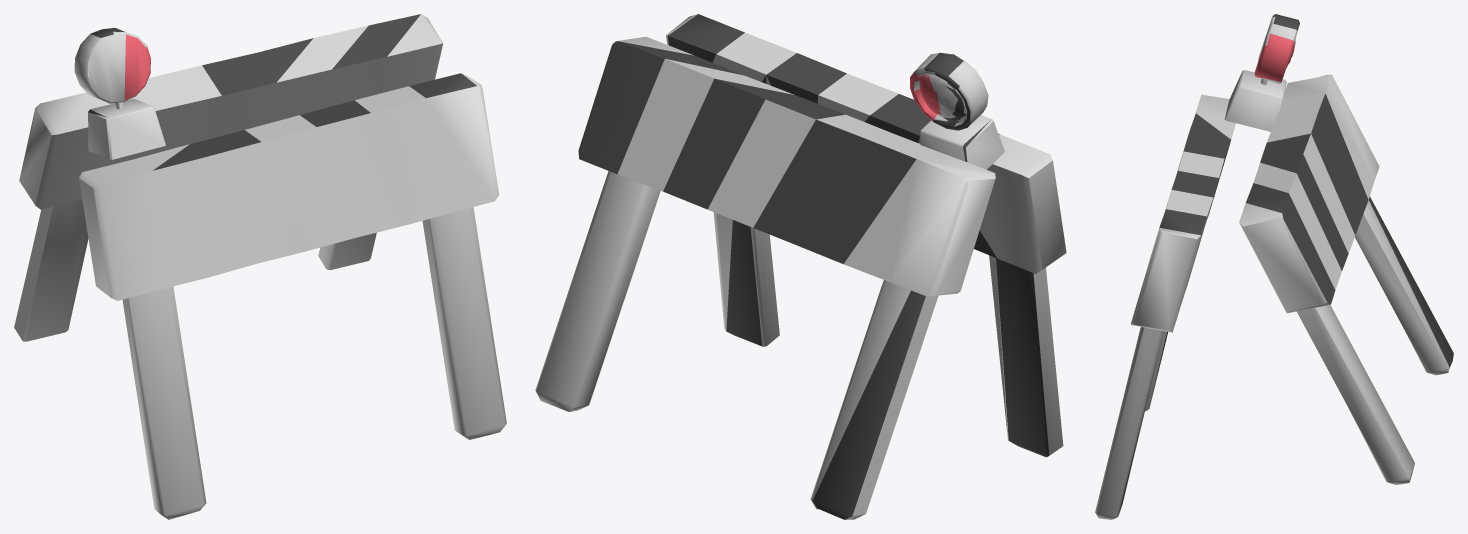
The model's file is Barrier.glb.
3 views of the same model, side by side, from view 1: azimuth 30°, elevation 25°; view 2: azimuth 150°, elevation 25°; view 3: azimuth 270°, elevation 25° (orthographic). The views are drawn at different scales.
Parts seen in each view (by area): view 1: Barrier; view 2: Barrier; view 3: Barrier.
Part boxes in pixels (left/top/right/bottom): Barrier: left=14, top=14, right=506, bottom=519; Barrier: left=535, top=14, right=1066, bottom=519; Barrier: left=1095, top=14, right=1453, bottom=519.
Bounding box in the file's own units: 1.13 × 1.2 × 0.9893.
